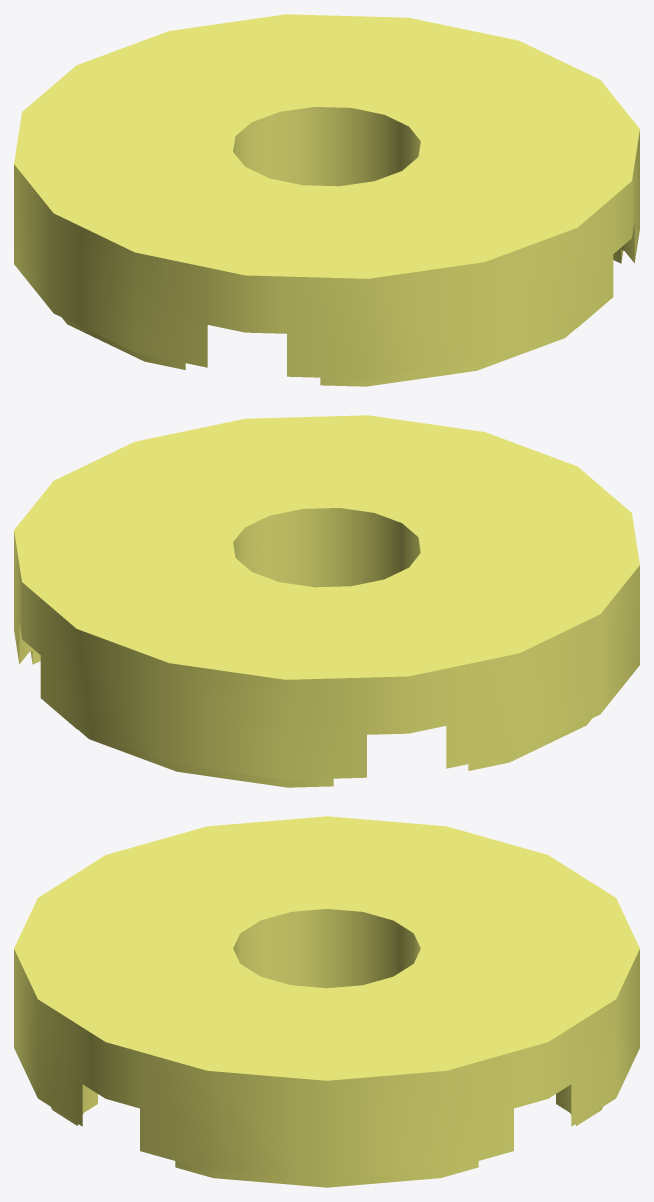
3 renders of one model, top to bottom at view 1: azimuth 30°, elevation 25°; view 2: azimuth 150°, elevation 25°; view 3: azimuth 270°, elevation 25°, orthographic.
Visible parts, largest first — view 1: 15535.dat; view 2: 15535.dat; view 3: 15535.dat.
Boxes of the visible parts, x1,y1,x2,y2 form: 15535.dat: (14,14,639,386); 15535.dat: (14,415,639,787); 15535.dat: (14,816,639,1187).
Size of the model in its own units: 0.016 by 0.0032 by 0.016.
